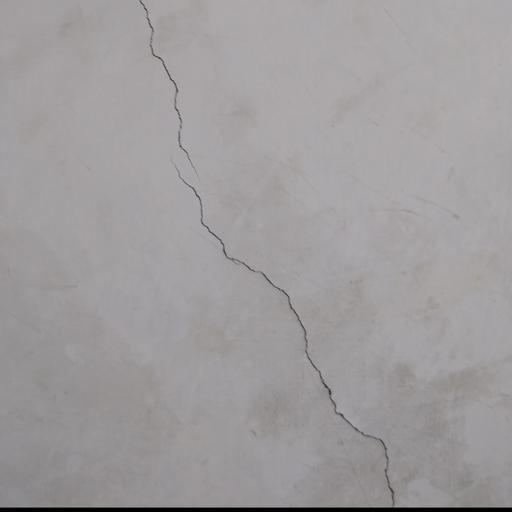minor_crack: (125, 0, 413, 512)
